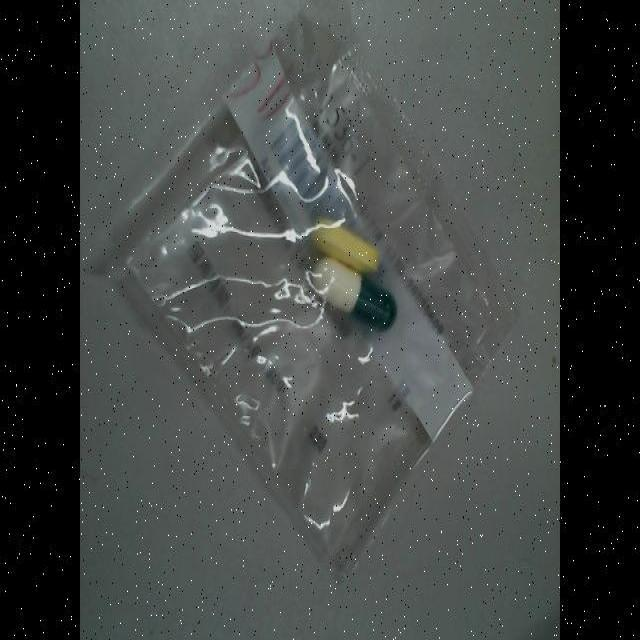pill: (314, 256, 398, 331), (316, 218, 382, 276)
